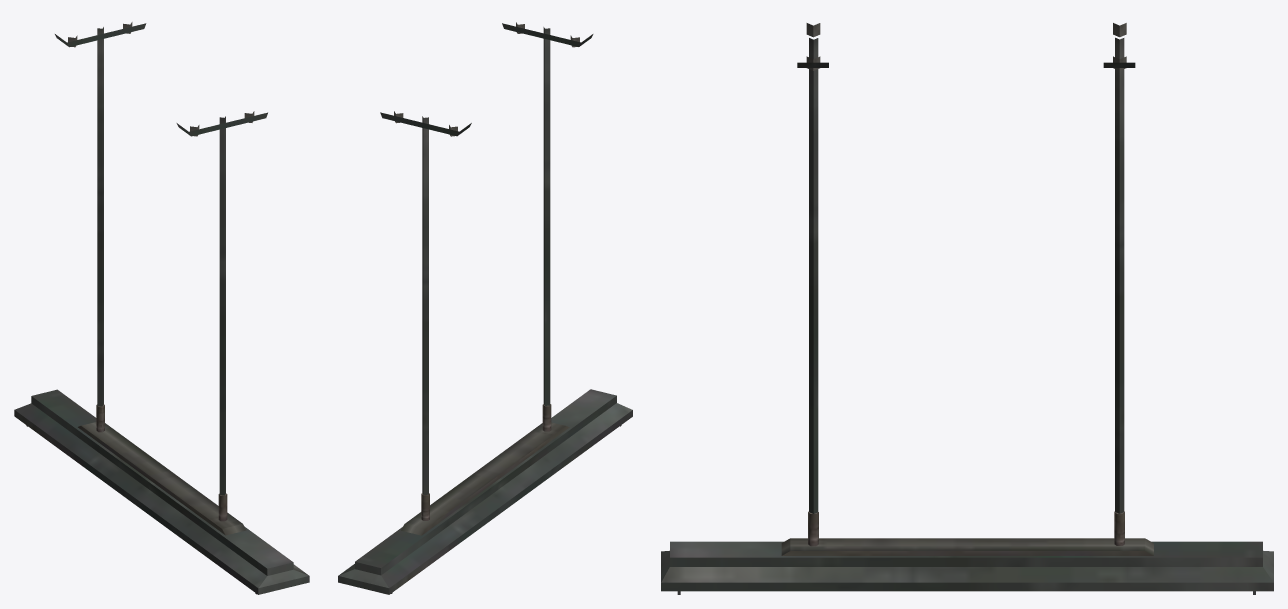
File: lab_flourescentlight001a.glb
3 views of the same model, side by side, from view 1: azimuth 30°, elevation 25°; view 2: azimuth 150°, elevation 25°; view 3: azimuth 270°, elevation 25° (orthographic). The views are drawn at different scales.
Visible parts, largest first — view 1: 0_prison_objects004_on; view 2: 0_prison_objects004_on; view 3: 0_prison_objects004_on.
Part boxes in pixels (box(x1,y1,x2,y2)): 0_prison_objects004_on: box(14, 22, 309, 594); 0_prison_objects004_on: box(338, 22, 632, 594); 0_prison_objects004_on: box(661, 23, 1273, 594).
Bounding box in the file's own units: 0.3161 × 1.65 × 1.68.
1 material, 1 textured.
